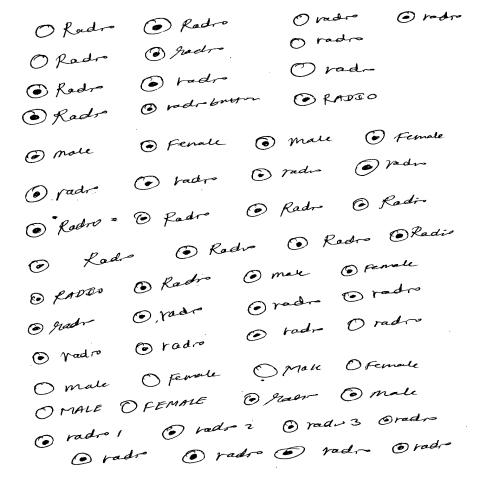Radio Button: (140, 96, 257, 114), (34, 428, 122, 448), (160, 422, 254, 440), (132, 273, 211, 294), (140, 73, 227, 92), (118, 396, 208, 414), (21, 107, 108, 125), (175, 241, 257, 260), (247, 295, 321, 316), (246, 322, 323, 342), (342, 282, 421, 301), (24, 218, 102, 237), (24, 183, 98, 203), (143, 17, 228, 34), (181, 447, 264, 464), (245, 200, 323, 218), (272, 445, 370, 459), (290, 61, 375, 77), (29, 287, 104, 305), (286, 234, 370, 250), (35, 21, 114, 38), (133, 210, 211, 227), (140, 370, 218, 387), (354, 158, 427, 176), (144, 45, 224, 61), (347, 314, 422, 331), (29, 53, 108, 69), (25, 82, 104, 98), (132, 306, 202, 324), (254, 134, 332, 150), (364, 129, 442, 145), (340, 260, 418, 276), (282, 417, 360, 433), (133, 175, 216, 190), (26, 317, 95, 335), (242, 390, 319, 406), (139, 138, 226, 152), (70, 450, 146, 466), (352, 194, 426, 210), (293, 92, 377, 106), (340, 386, 418, 401), (250, 166, 322, 182), (23, 147, 94, 163), (33, 380, 108, 395), (31, 348, 100, 364), (34, 404, 102, 420), (242, 268, 309, 284), (388, 226, 454, 242), (288, 34, 362, 48), (135, 340, 204, 355), (252, 363, 321, 377), (292, 12, 359, 26), (390, 440, 452, 454), (346, 359, 418, 370), (396, 11, 461, 23), (377, 413, 437, 426)
